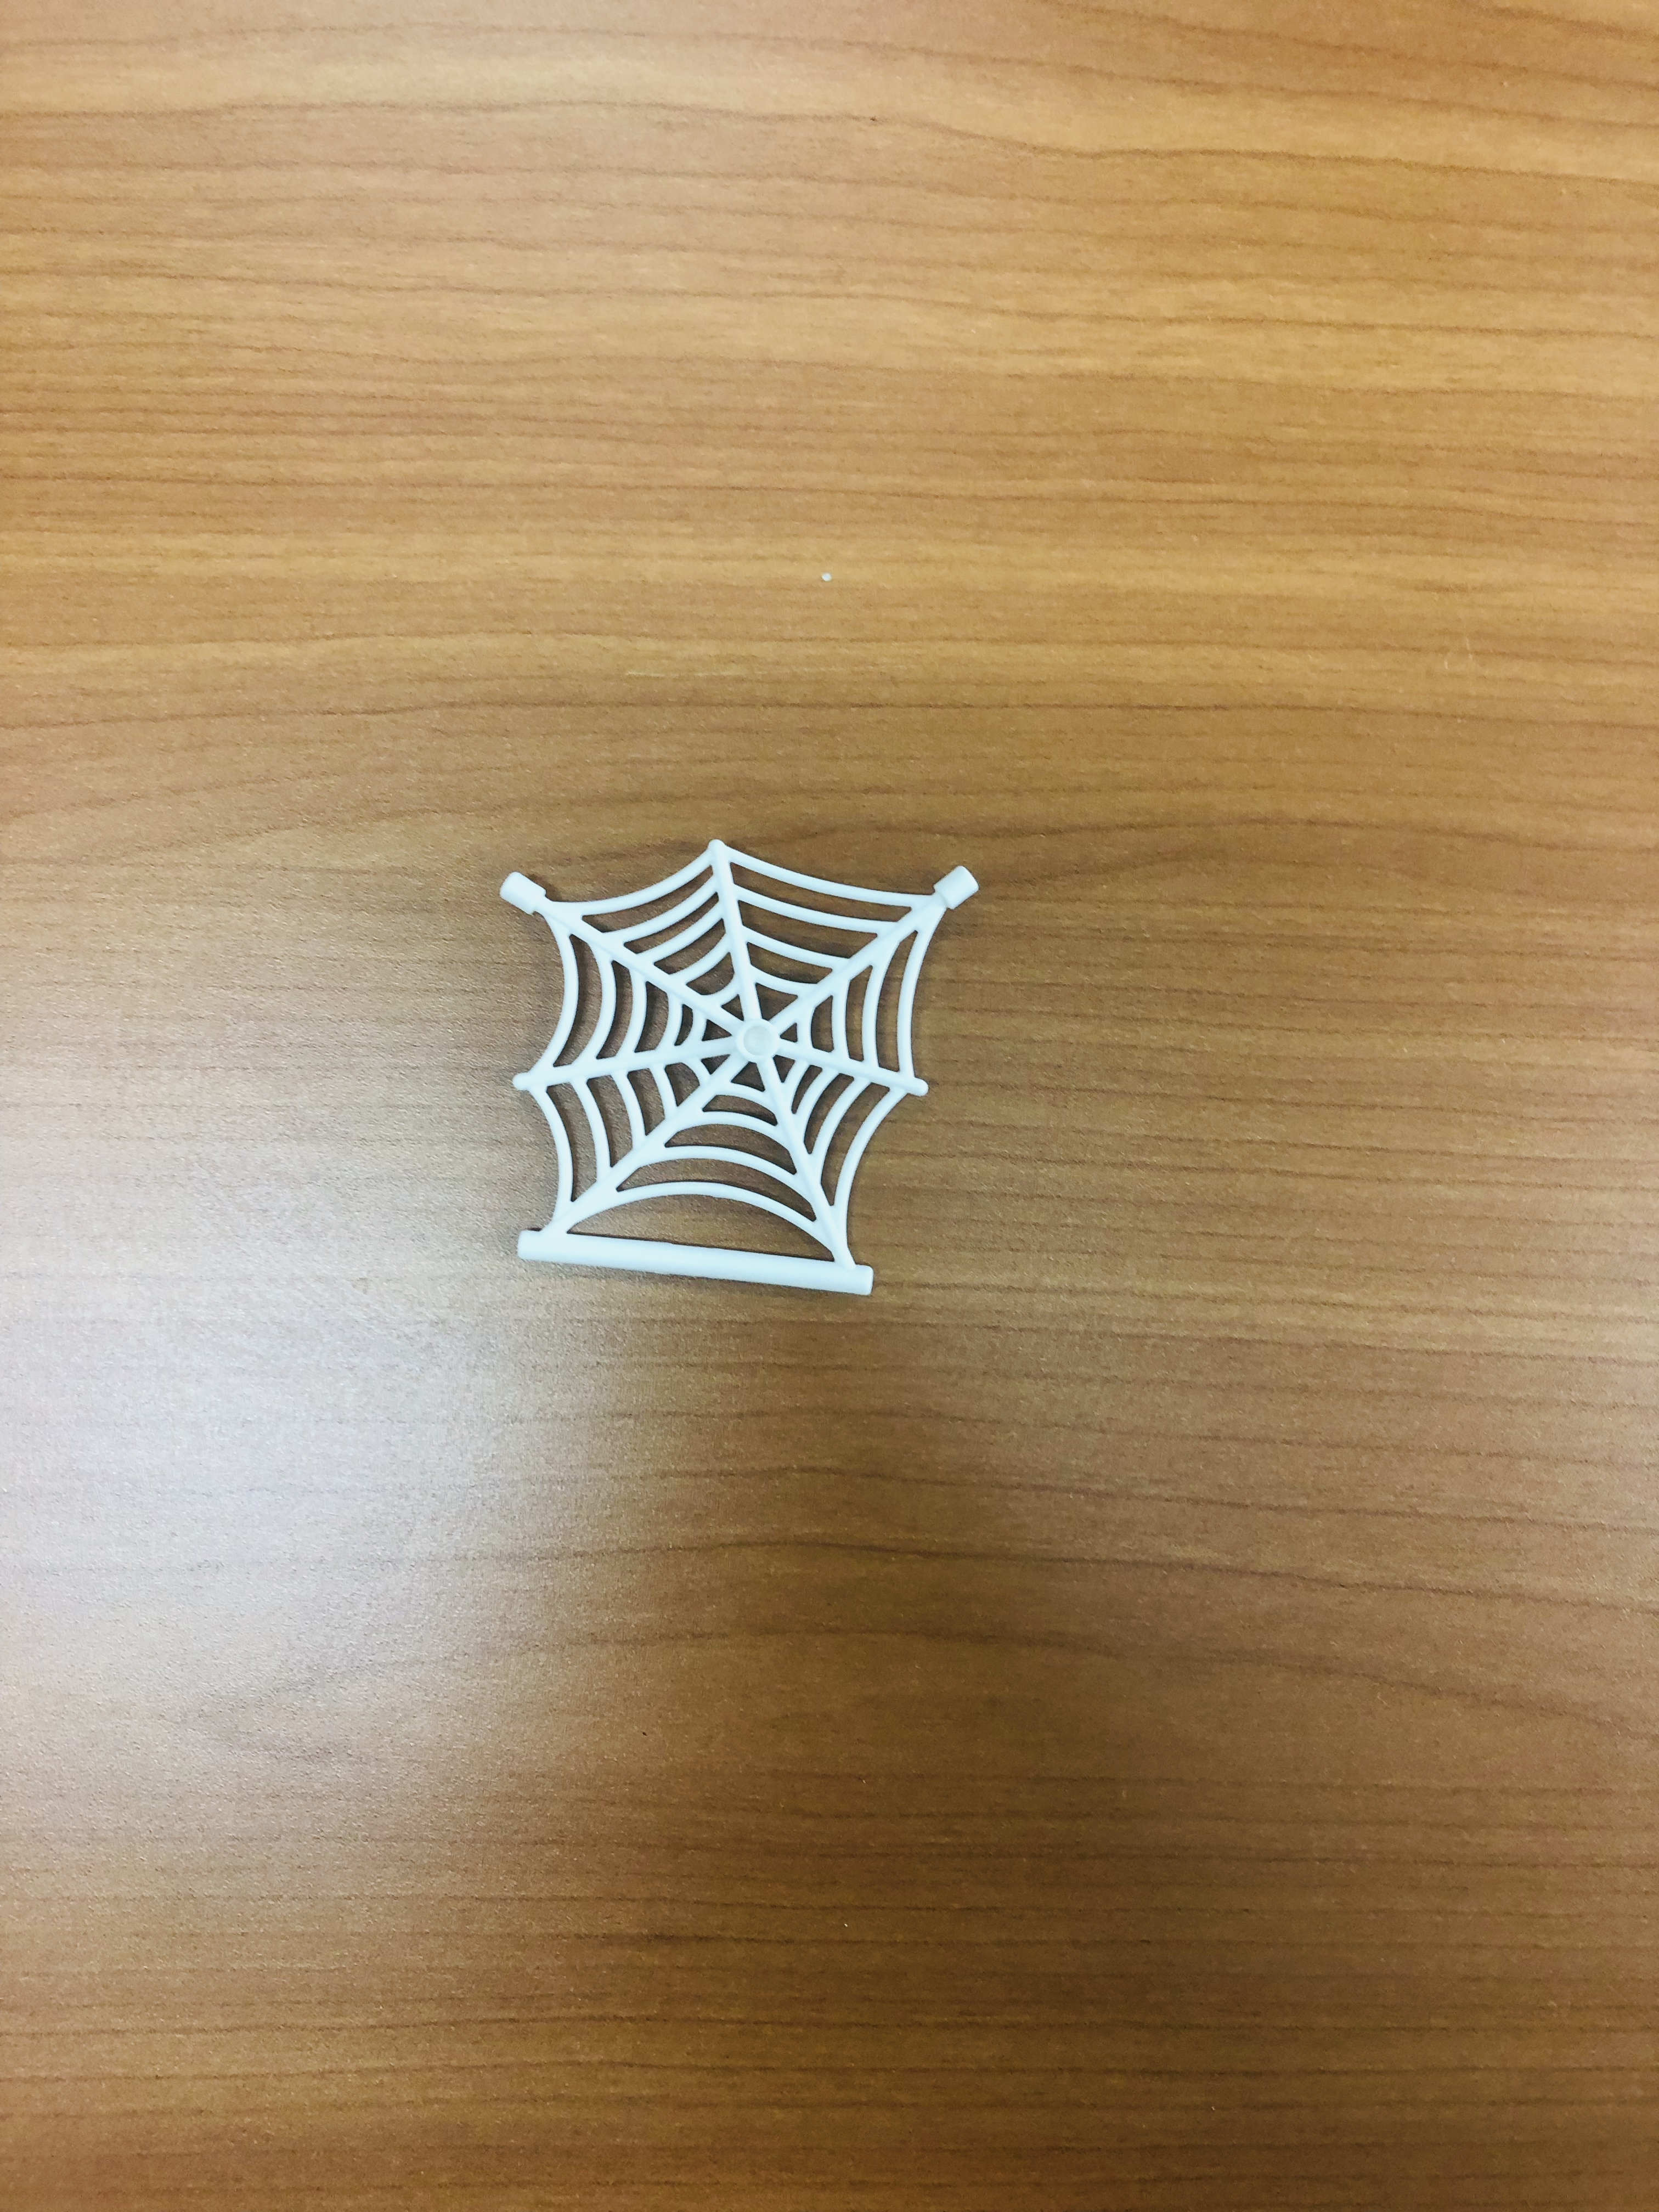web: (414, 788, 998, 1310)
